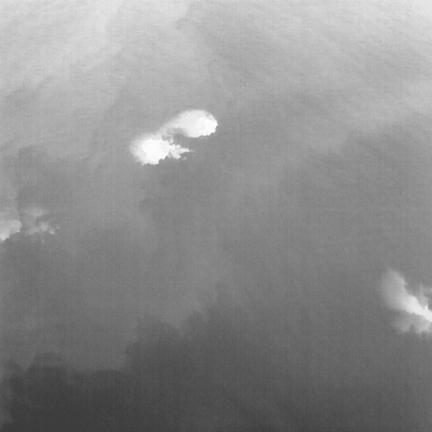flukeprints: (172, 111, 217, 137), (132, 136, 170, 164)
